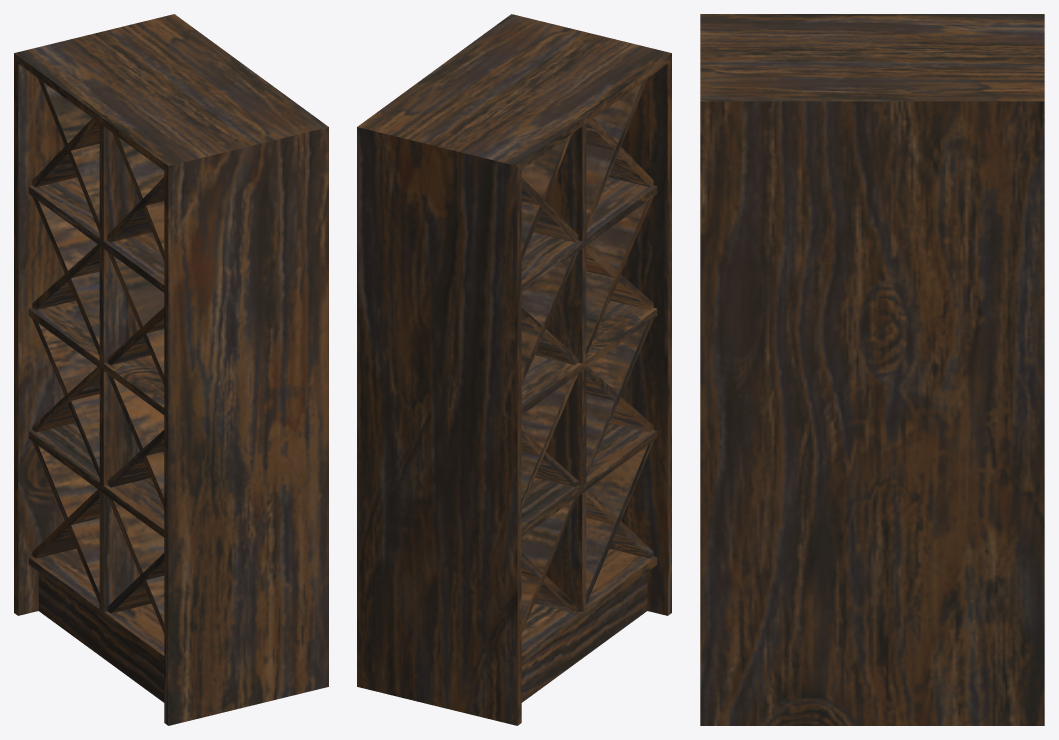
Rendered from Wine_hold.fbx.
3 renders of one model, left to right at view 1: azimuth 30°, elevation 25°; view 2: azimuth 150°, elevation 25°; view 3: azimuth 270°, elevation 25°, orthographic. The views are drawn at different scales.
Parts seen in each view (by area): view 1: Wine_hold; view 2: Wine_hold; view 3: Wine_hold.
Part boxes in pixels (box(x1,y1,x2,y2)): Wine_hold: box(14, 14, 328, 725); Wine_hold: box(357, 14, 671, 725); Wine_hold: box(700, 14, 1044, 725).
Size of the model in its own units: 900 by 3000 by 1500.
Materials: 1 (1 with a texture image).
